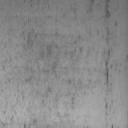surface scratch: (105, 50, 110, 88), (103, 0, 110, 19), (105, 27, 110, 46), (105, 94, 108, 116)
